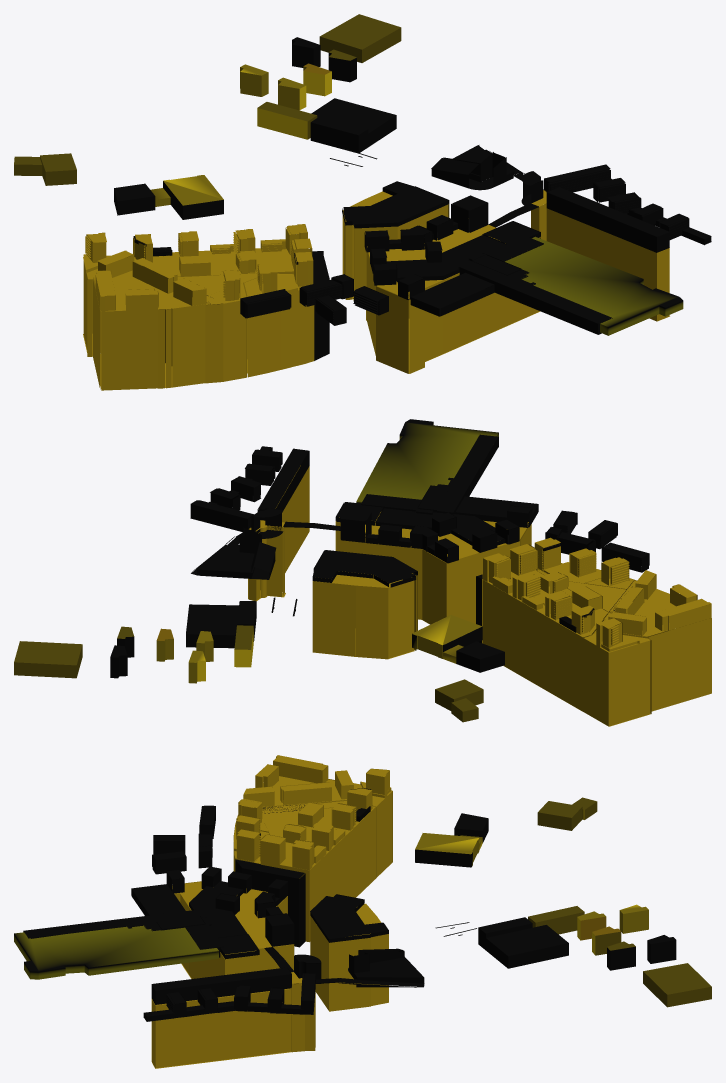
File: PAM_8489_Isku_Tre_areenan_tontit_buildings.FBX
3 views of the same model, one above another, from view 1: azimuth 30°, elevation 25°; view 2: azimuth 150°, elevation 25°; view 3: azimuth 270°, elevation 25° (orthographic). The views are drawn at different scales.
Visible parts, largest first — view 1: PAM_8489_Isku_Tre_areenan_tontit_buildings_3_LOD0, PAM_8489_Isku_Tre_areenan_tontit_buildings_2_LOD0, PAM_8489_Isku_Tre_areenan_tontit_buildings_1_LOD0, PAM_8489_Isku_Tre_areenan_tontit_buildings_4_LOD0, PAM_8489_Isku_Tre_areenan_tontit_buildings_5_LOD0; view 2: PAM_8489_Isku_Tre_areenan_tontit_buildings_3_LOD0, PAM_8489_Isku_Tre_areenan_tontit_buildings_2_LOD0, PAM_8489_Isku_Tre_areenan_tontit_buildings_1_LOD0, PAM_8489_Isku_Tre_areenan_tontit_buildings_4_LOD0, PAM_8489_Isku_Tre_areenan_tontit_buildings_5_LOD0; view 3: PAM_8489_Isku_Tre_areenan_tontit_buildings_3_LOD0, PAM_8489_Isku_Tre_areenan_tontit_buildings_2_LOD0, PAM_8489_Isku_Tre_areenan_tontit_buildings_4_LOD0, PAM_8489_Isku_Tre_areenan_tontit_buildings_1_LOD0, PAM_8489_Isku_Tre_areenan_tontit_buildings_5_LOD0.
Part boxes in pixels (x1,y1,x2,y2): PAM_8489_Isku_Tre_areenan_tontit_buildings_3_LOD0: [83, 224, 388, 390]; PAM_8489_Isku_Tre_areenan_tontit_buildings_2_LOD0: [330, 148, 612, 373]; PAM_8489_Isku_Tre_areenan_tontit_buildings_1_LOD0: [14, 14, 401, 219]; PAM_8489_Isku_Tre_areenan_tontit_buildings_4_LOD0: [431, 145, 711, 321]; PAM_8489_Isku_Tre_areenan_tontit_buildings_5_LOD0: [505, 236, 683, 335]; PAM_8489_Isku_Tre_areenan_tontit_buildings_3_LOD0: [476, 510, 711, 726]; PAM_8489_Isku_Tre_areenan_tontit_buildings_2_LOD0: [271, 434, 538, 659]; PAM_8489_Isku_Tre_areenan_tontit_buildings_1_LOD0: [14, 601, 504, 722]; PAM_8489_Isku_Tre_areenan_tontit_buildings_4_LOD0: [190, 446, 340, 601]; PAM_8489_Isku_Tre_areenan_tontit_buildings_5_LOD0: [356, 419, 498, 503]; PAM_8489_Isku_Tre_areenan_tontit_buildings_3_LOD0: [152, 755, 392, 947]; PAM_8489_Isku_Tre_areenan_tontit_buildings_2_LOD0: [23, 866, 476, 1011]; PAM_8489_Isku_Tre_areenan_tontit_buildings_4_LOD0: [143, 947, 424, 1068]; PAM_8489_Isku_Tre_areenan_tontit_buildings_1_LOD0: [415, 797, 711, 1007]; PAM_8489_Isku_Tre_areenan_tontit_buildings_5_LOD0: [14, 925, 218, 979].
Size of the model in its own units: 710 by 126 by 859.
